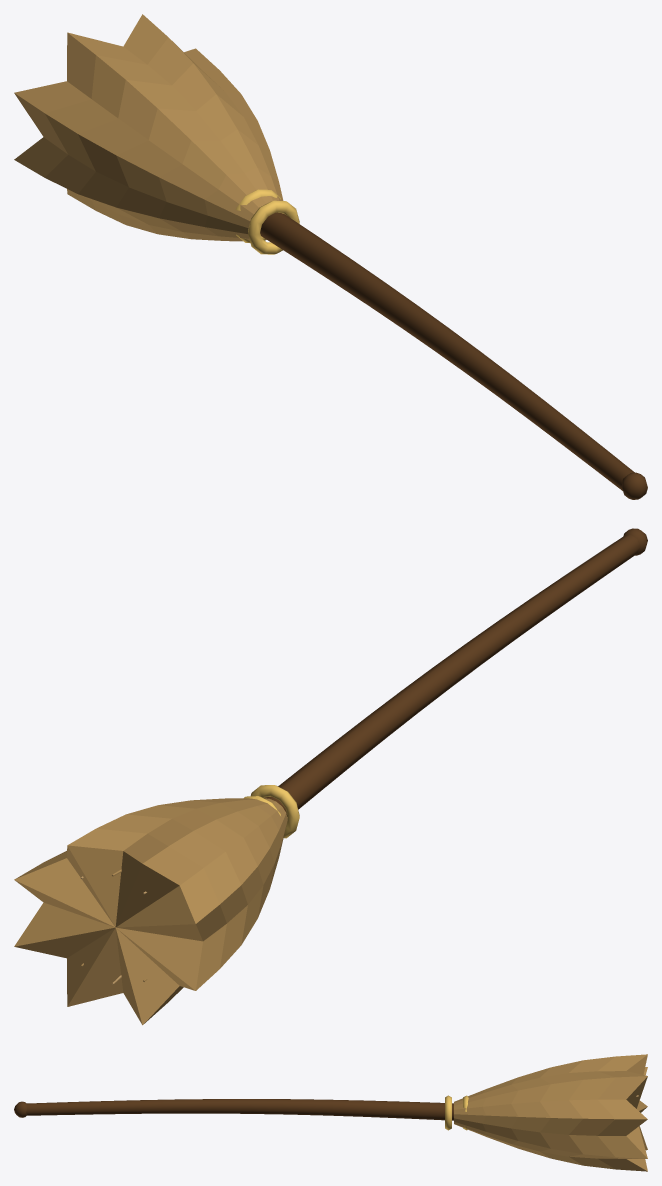
The model's file is broom.glb.
3 renders of one model, top to bottom at view 1: azimuth 30°, elevation 25°; view 2: azimuth 150°, elevation 25°; view 3: azimuth 270°, elevation 25°, orthographic. The views are drawn at different scales.
Parts seen in each view (by area): view 1: char_broom; view 2: char_broom; view 3: char_broom.
Boxes of the visible parts, <box> form: char_broom: <box>14,14,647,499</box>; char_broom: <box>14,528,647,1025</box>; char_broom: <box>14,1054,647,1171</box>.
Bounding box in the file's own units: 0.6837 × 0.5811 × 3.49.
1 material, 1 textured.
